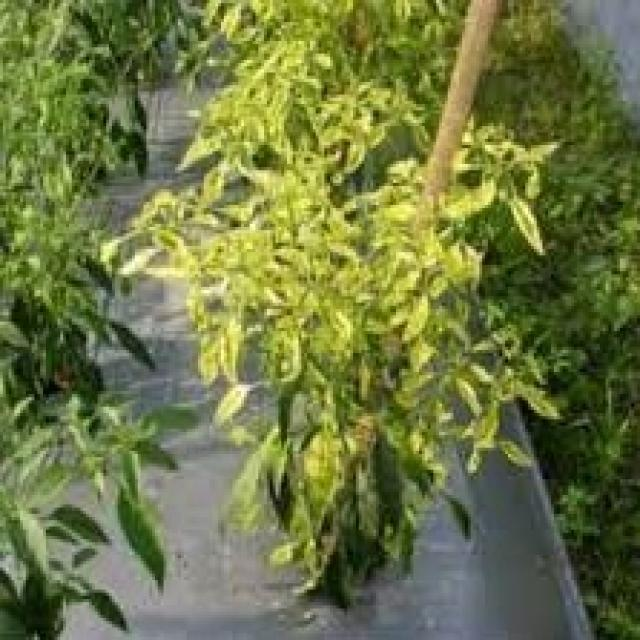virus_kuning: (307, 426, 341, 545), (501, 191, 548, 266), (210, 382, 260, 438), (405, 296, 438, 350)
